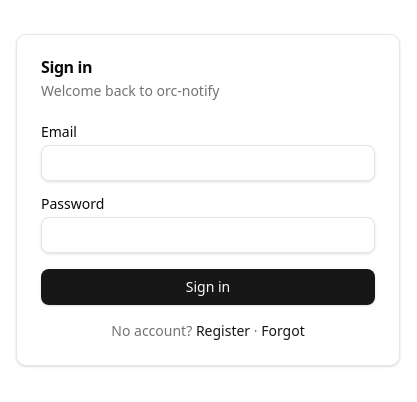
it: <Login> › shows error message on 401
In the field labelled "Email": coordinates (208, 163) [41, 145, 375, 181], type "a@b.c"
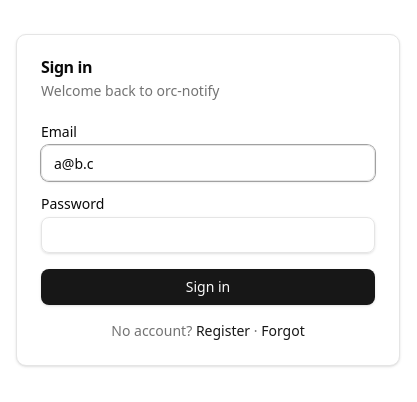
In the password field labelled "Password": coordinates (208, 235) [41, 217, 375, 253], type "wrongpassword"
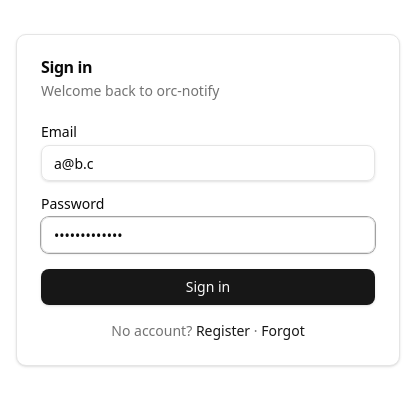
Click the button "Sign in": coordinates (208, 287) [41, 269, 375, 305]
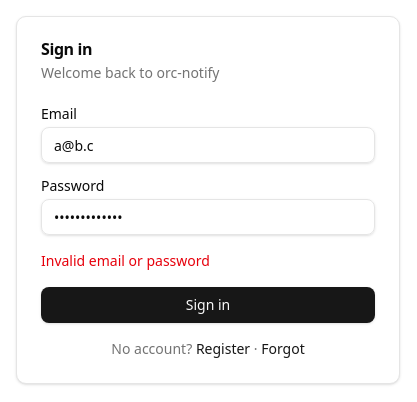
Expected: the text "Invalid email or password" is shown, [41, 251, 210, 270]
